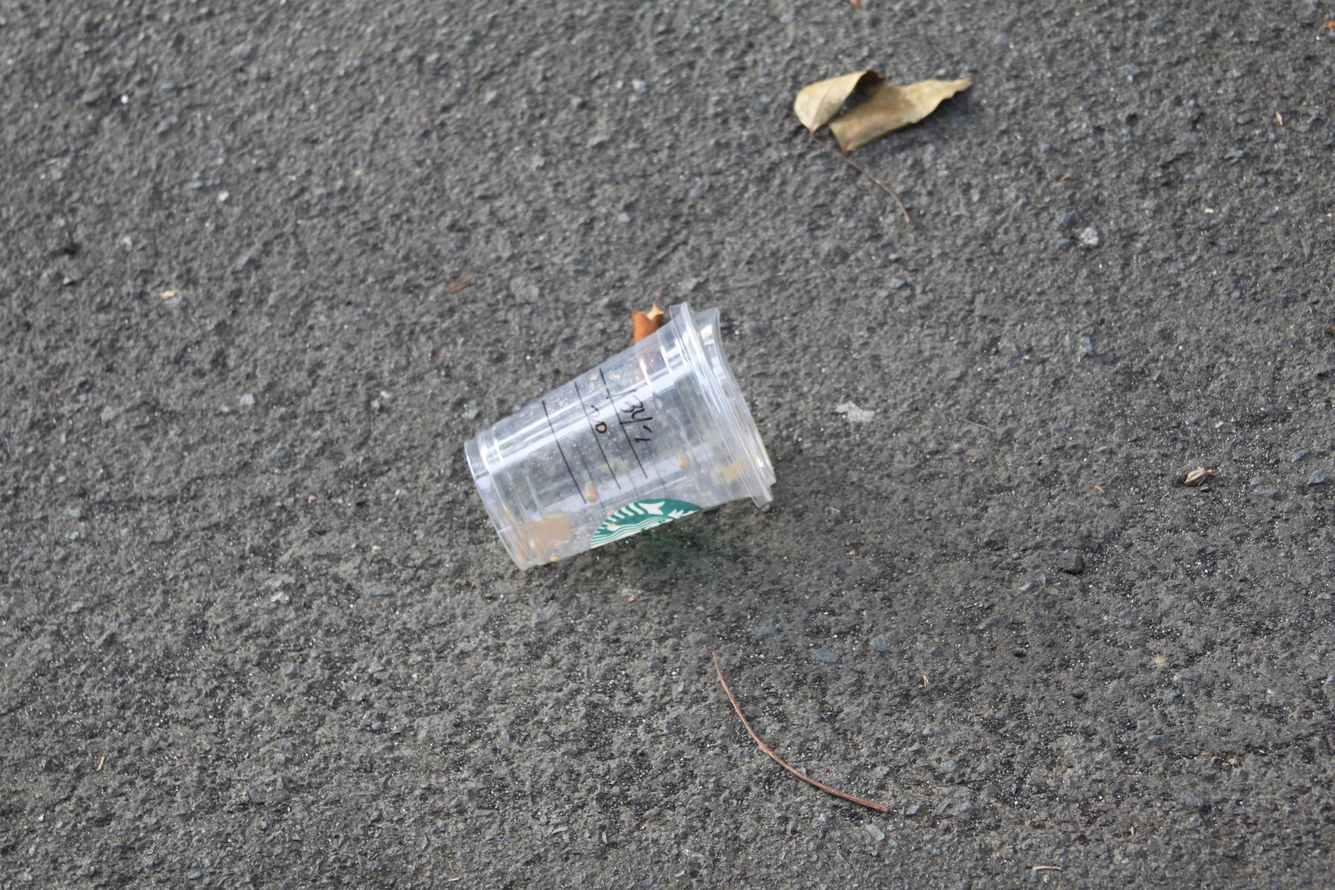Plastic: (458, 297, 780, 574)
